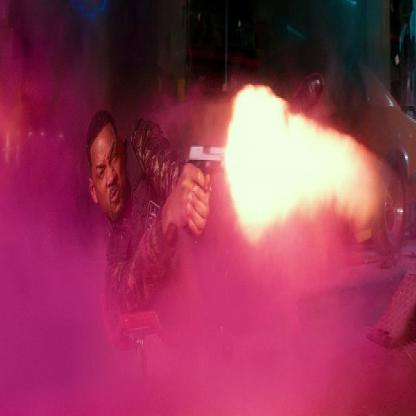Guns: (181, 138, 230, 240)
